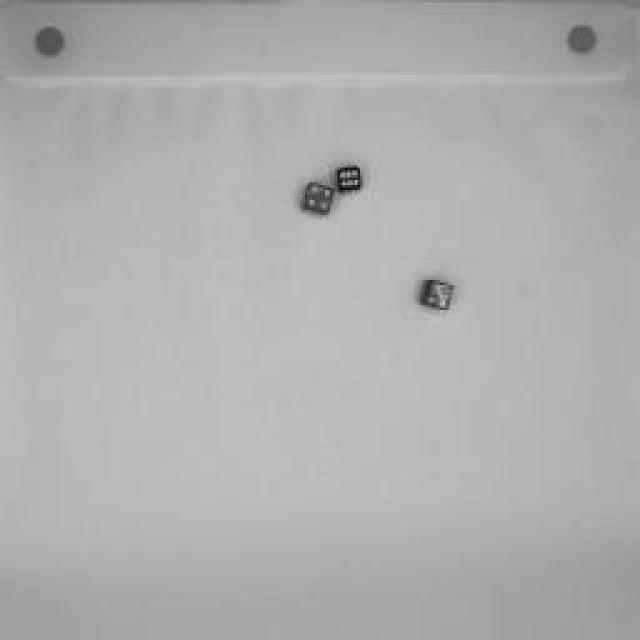dice_2: (412, 271, 460, 324)
dice_4: (298, 179, 340, 221)
dice_6: (331, 164, 369, 198)
